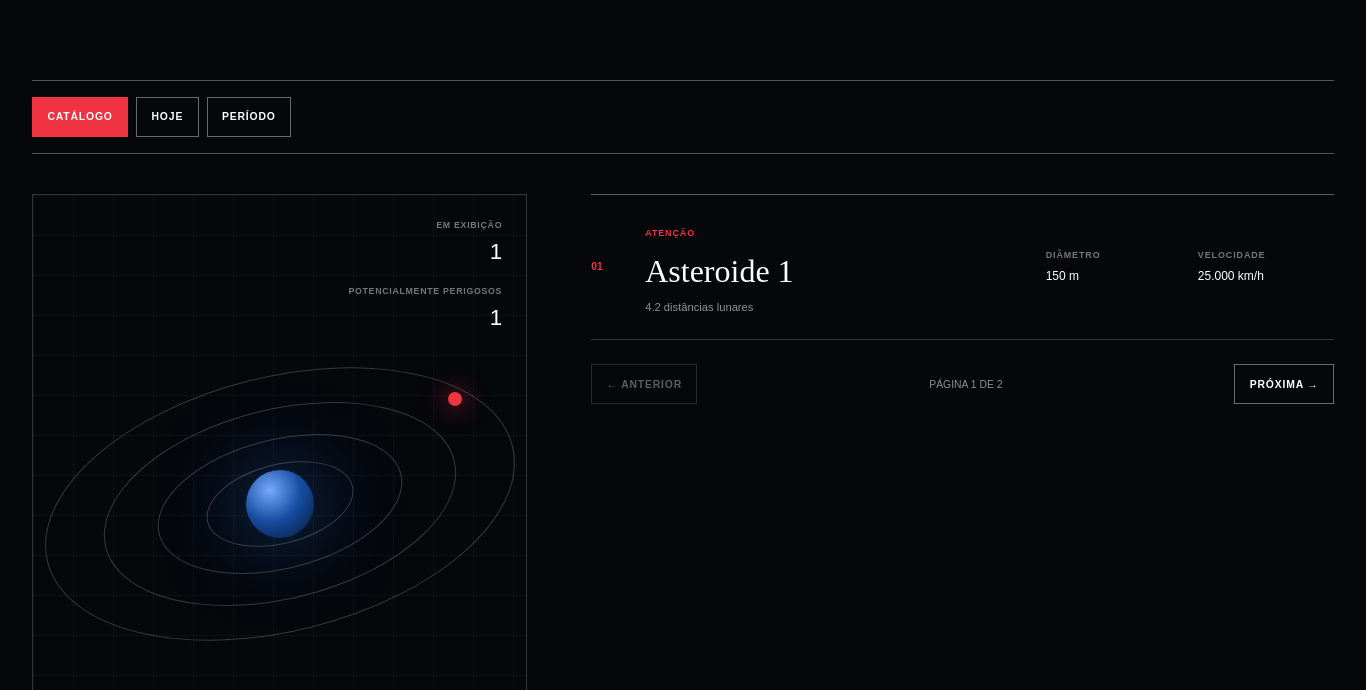
it: AsteroidSection › consulta um período e pagina o catálogo
The width and height of the screenshot is (1366, 690).
(page scrolled)
Click the button "Próxima →": (1284, 384) [1234, 364, 1334, 404]
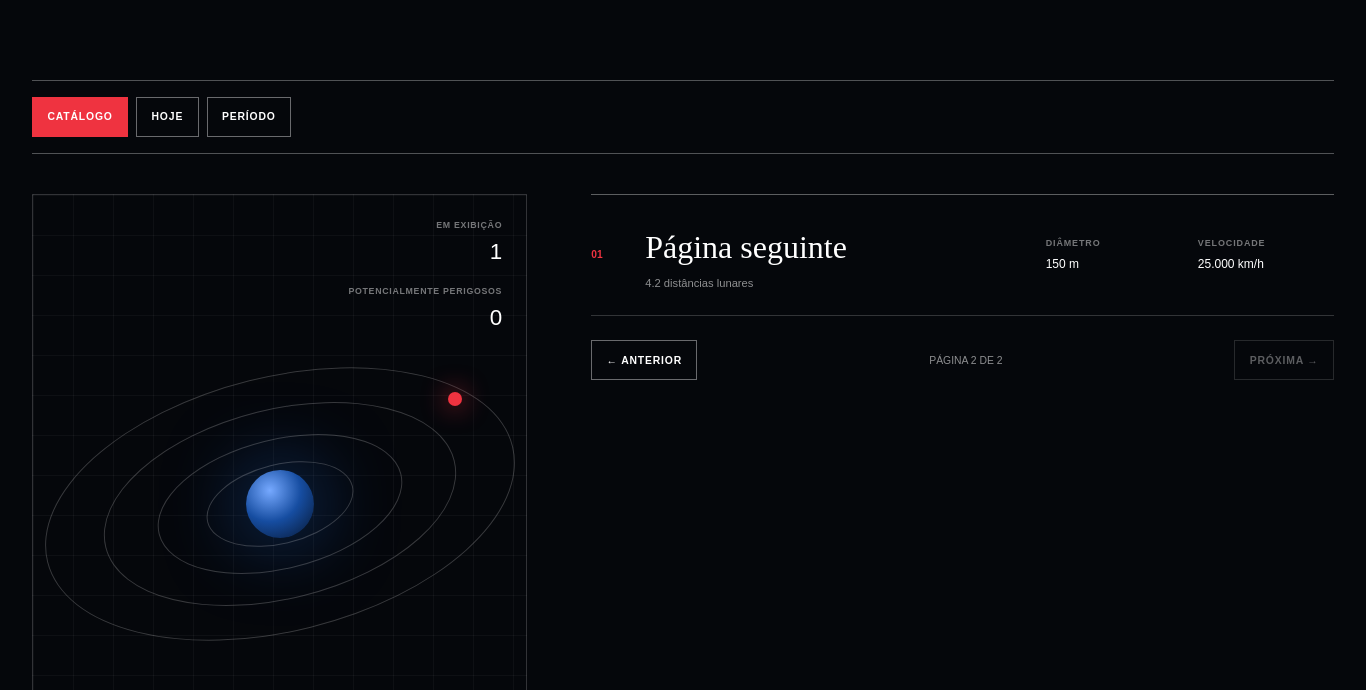
Click the button "Período": (249, 117) [206, 97, 291, 137]
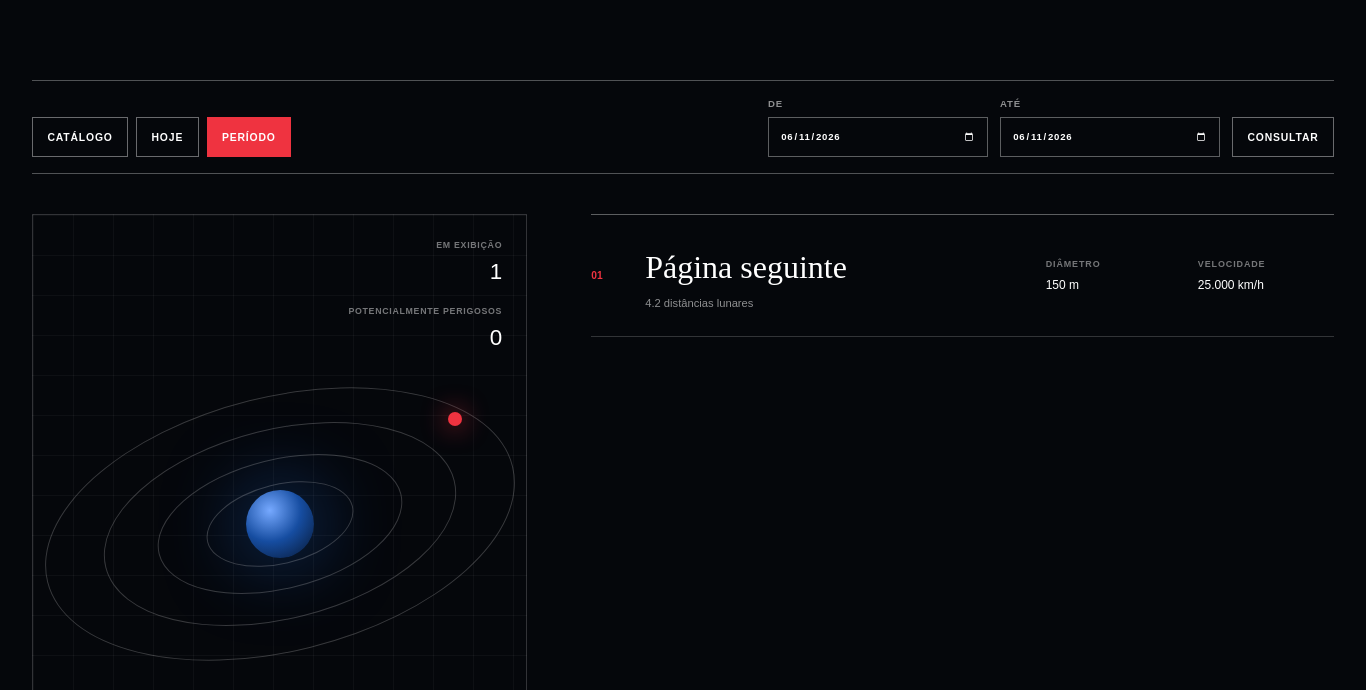
Submit the form with class "asteroid-period", box [768, 98, 1334, 158]
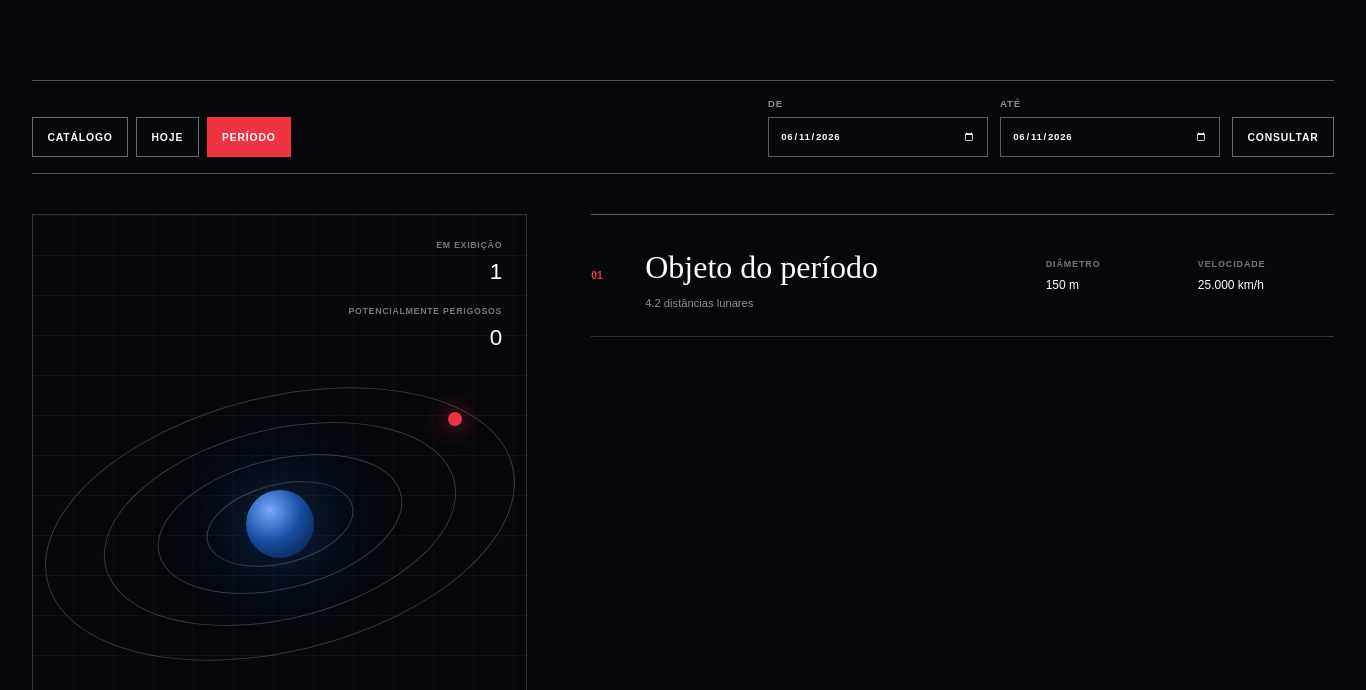
Expected: the text "Objeto do período" is shown, [645, 249, 878, 285]
